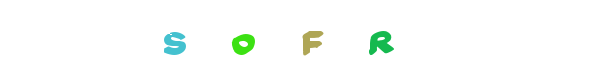F: (266, 0, 346, 80)
O: (260, 0, 340, 80)
R: (276, 0, 356, 80)
S: (151, 0, 231, 80)
